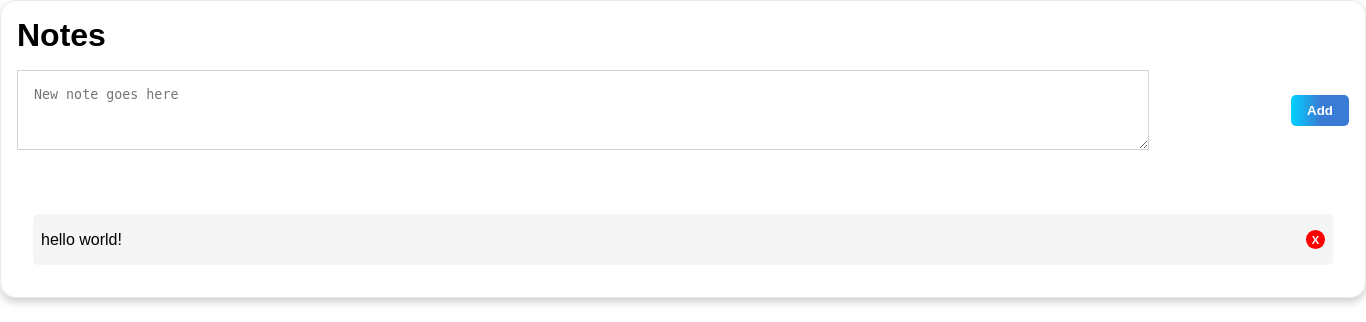
Test: Notes › should delete note
The image size is (1366, 322).
Expected: the text "hello world!" is shown, [41,231,122,248]
Click the button "X".
click(1316, 240)  # box [1306,230,1325,249]
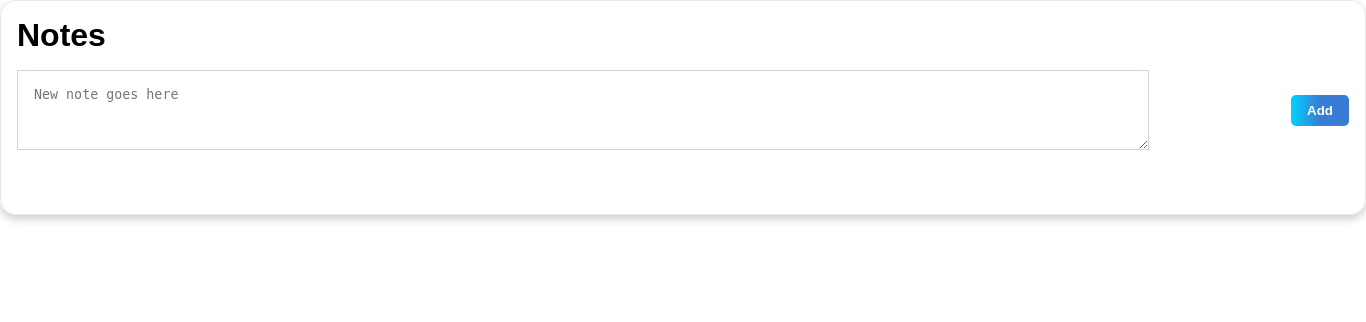
Expected: the button "hello world!" is gone
